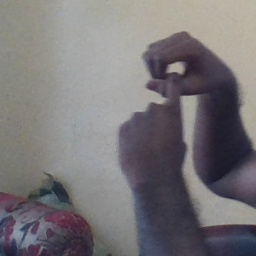Q: (113, 28, 212, 169)
